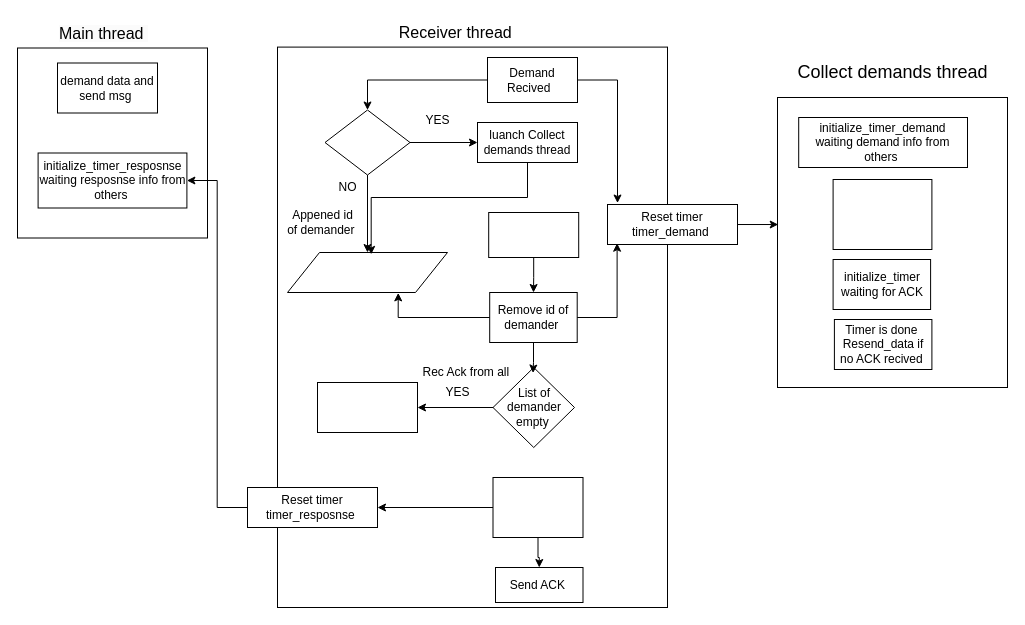
This 1025x625 diagram has some shape labels left out. Each missing label, with the centre of its shape:
"ACK Recived" belongs at [533,235].
"Join Collect demands thread" belongs at [367,407].
"List of demander" belongs at [367,272].
"List of demander is empty" belongs at [367,142].
"Respond from another node contains info" belongs at [537,507].
"Timer is done Send info of curent node" belongs at [882,214].
